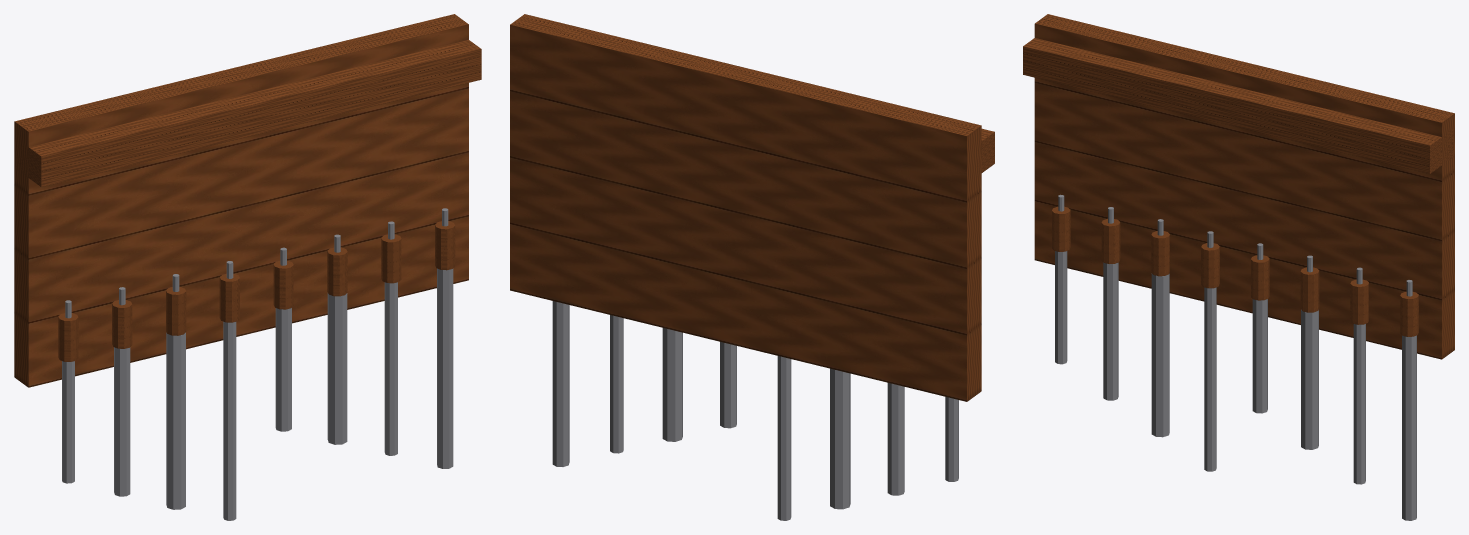
The model's file is blacksmith-forge-and-armoury-blacksmith-forge-and-armo-6b9a8922__37582.glb.
The picture shows the model from 3 angles, left to right: view 1: azimuth 30°, elevation 25°; view 2: azimuth 150°, elevation 25°; view 3: azimuth 330°, elevation 25°; orthographic projection. The views are drawn at different scales.
Parts seen in each view (by area): view 1: blacksmith-forge-and-armoury-file-and-rasp-rack; view 2: blacksmith-forge-and-armoury-file-and-rasp-rack; view 3: blacksmith-forge-and-armoury-file-and-rasp-rack.
Boxes of the visible parts, x1,y1,x2,y2 form: blacksmith-forge-and-armoury-file-and-rasp-rack: (14, 14, 481, 520); blacksmith-forge-and-armoury-file-and-rasp-rack: (510, 14, 994, 520); blacksmith-forge-and-armoury-file-and-rasp-rack: (1023, 14, 1454, 520).
Size of the model in its own units: 0.9 by 0.84 by 0.095.
Materials: 2 (1 with a texture image).
